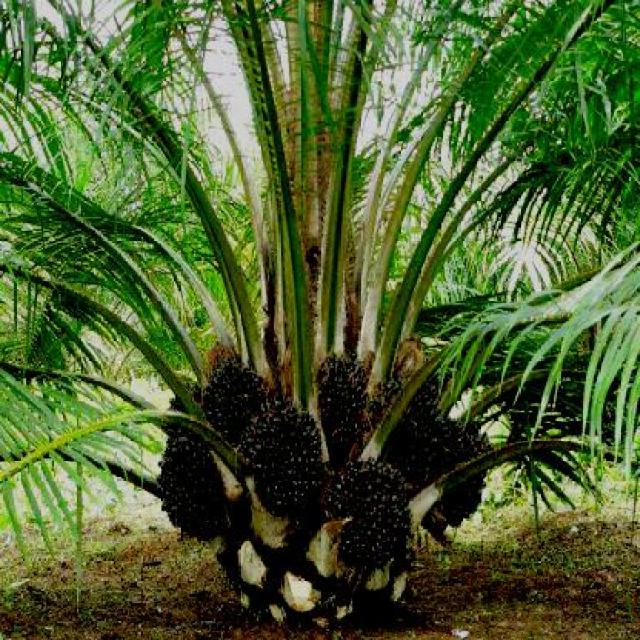palm-oil: (157, 430, 229, 540), (250, 414, 326, 514), (331, 471, 409, 561), (389, 373, 444, 493), (441, 426, 502, 529), (316, 359, 369, 453), (208, 360, 266, 439)
